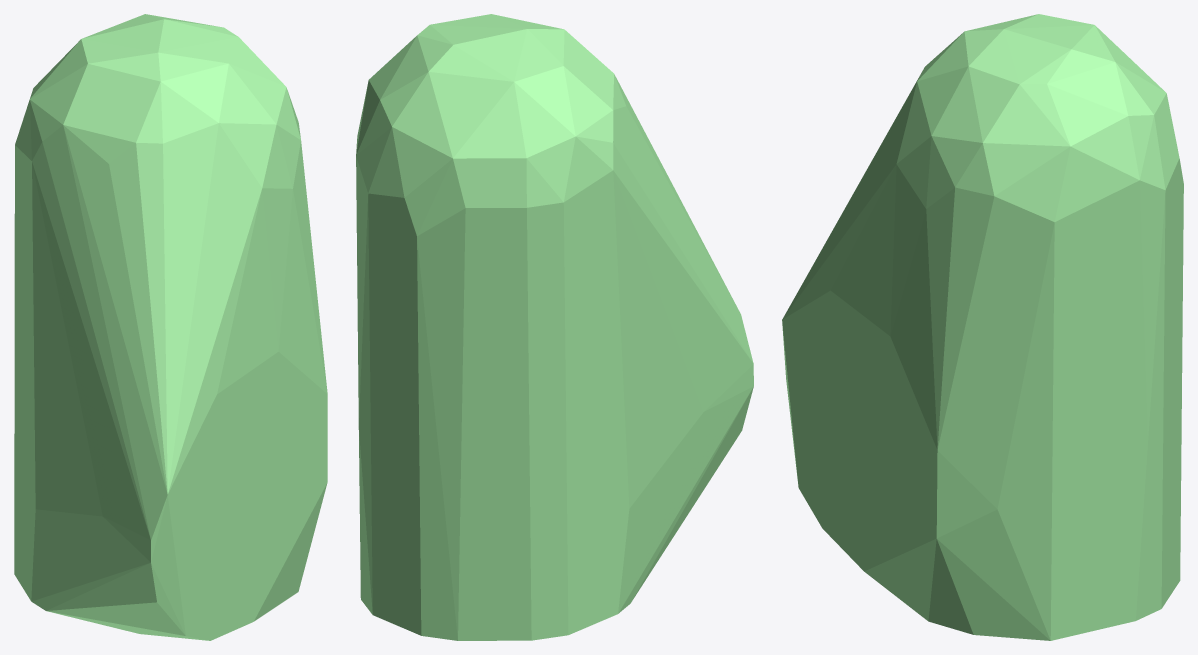
The model's file is dvkr_robot_L_link3_respondable_coll_4.dae.
3 views of the same model, side by side, from view 1: azimuth 30°, elevation 25°; view 2: azimuth 150°, elevation 25°; view 3: azimuth 270°, elevation 25° (orthographic).
Visible parts, largest first — view 1: Node_0000023514CD9290; view 2: Node_0000023514CD9290; view 3: Node_0000023514CD9290.
Part boxes in pixels (<box>): Node_0000023514CD9290: <box>14,14,327,640</box>; Node_0000023514CD9290: <box>356,14,753,640</box>; Node_0000023514CD9290: <box>782,14,1183,640</box>.
Size of the model in its own units: 0.1127 by 0.2247 by 0.1506.
